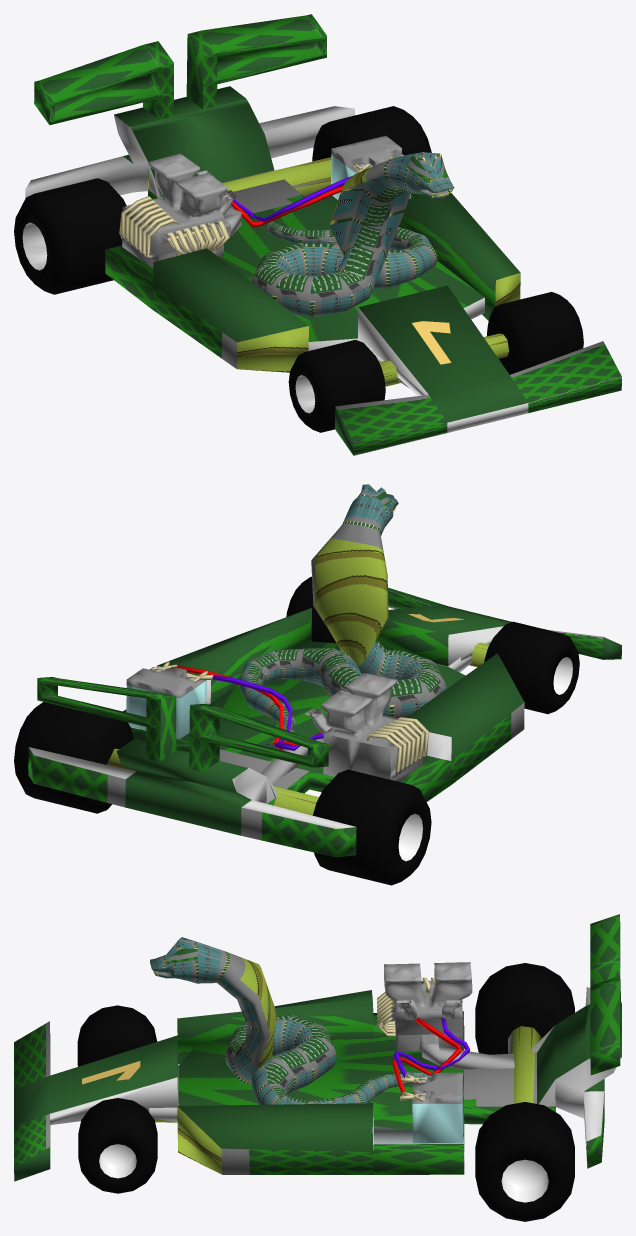
File: kart.glb
3 views of the same model, one above another, from view 1: azimuth 30°, elevation 25°; view 2: azimuth 150°, elevation 25°; view 3: azimuth 270°, elevation 25° (orthographic). The views are drawn at different scales.
Visible parts, largest first — view 1: body_9, wheel-rear-left, body_10, wheel-front-left, wheel-front-right, body_4, wheel-rear-right, body_1, body_7, body_6, body_0, body_3; view 2: body_9, wheel-rear-left, wheel-rear-right, wheel-front-left, body_10, body_4, body_7, body_1, body_6, body_5, wheel-front-right, body_3 (+1 smaller); view 3: body_9, wheel-rear-right, wheel-front-right, wheel-rear-left, body_10, body_4, wheel-front-left, body_7, body_5, body_6, body_1, body_2 (+3 smaller).
Boxes of the visible parts, <box> form: body_9: <box>34,14,621,455</box>; wheel-rear-left: <box>14,178,126,294</box>; body_10: <box>25,98,528,432</box>; wheel-front-left: <box>288,339,385,432</box>; wheel-front-right: <box>487,292,583,374</box>; body_4: <box>148,153,399,236</box>; wheel-rear-right: <box>312,106,431,161</box>; body_1: <box>119,154,402,257</box>; body_7: <box>119,196,230,268</box>; body_6: <box>331,135,403,173</box>; body_0: <box>412,321,450,364</box>; body_3: <box>220,176,351,222</box>; body_9: <box>28,484,621,857</box>; wheel-rear-left: <box>313,769,431,885</box>; wheel-rear-right: <box>14,702,133,813</box>; wheel-front-left: <box>484,621,579,714</box>; body_10: <box>29,626,503,828</box>; body_4: <box>153,668,396,783</box>; body_7: <box>317,714,424,781</box>; body_1: <box>151,661,428,771</box>; body_6: <box>126,666,206,698</box>; body_5: <box>126,681,206,739</box>; wheel-front-right: <box>286,576,336,643</box>; body_3: <box>212,675,333,750</box>; body_9: <box>14,914,621,1181</box>; wheel-rear-right: <box>475,1102,574,1221</box>; wheel-front-right: <box>78,1098,157,1193</box>; wheel-rear-left: <box>475,963,574,1054</box>; body_10: <box>50,987,621,1166</box>; body_4: <box>384,962,514,1100</box>; wheel-front-left: <box>77,1005,157,1066</box>; body_7: <box>391,980,463,1054</box>; body_5: <box>412,1084,463,1143</box>; body_6: <box>412,1072,462,1103</box>; body_1: <box>377,977,434,1101</box>; body_2: <box>392,1017,461,1094</box>.
Size of the model in its own units: 0.9524 by 0.5207 by 1.38.
Materials: 12 (1 with a texture image).
